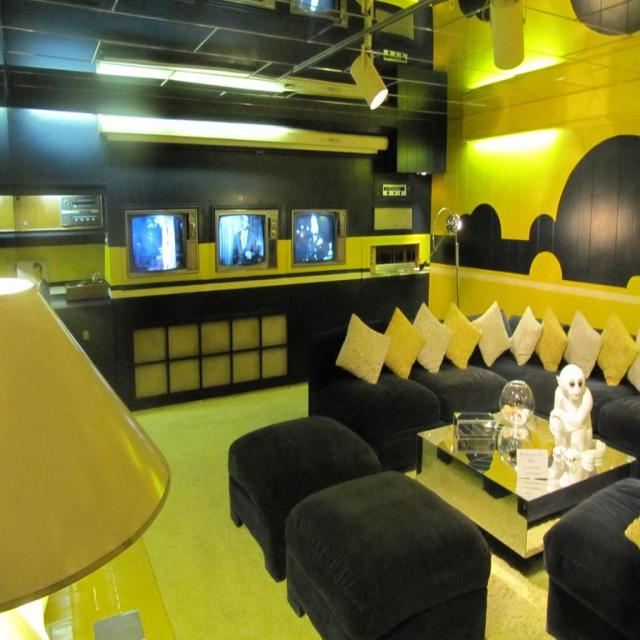Table: (427, 408, 609, 594)
